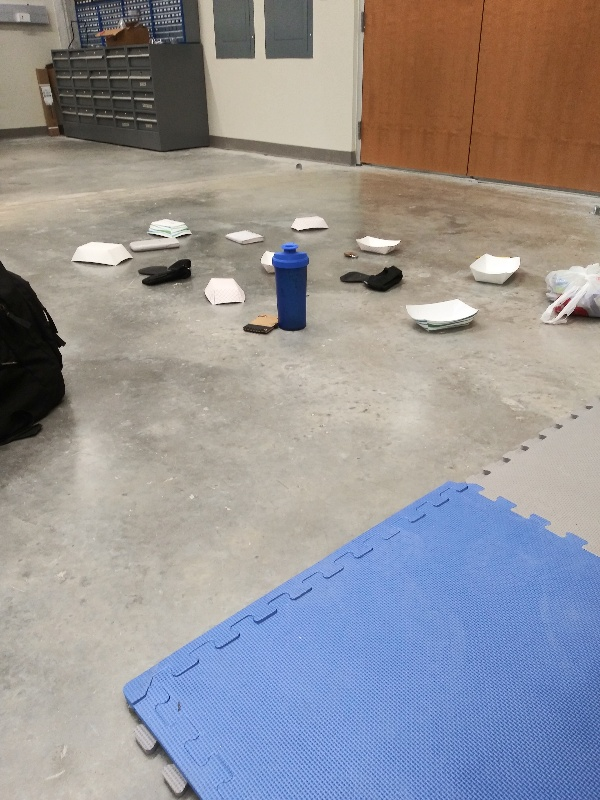plate: (400, 297, 484, 334), (463, 250, 524, 291), (69, 235, 135, 269), (201, 276, 250, 308), (143, 214, 200, 239), (350, 233, 405, 258), (286, 211, 333, 235), (258, 243, 278, 280)
